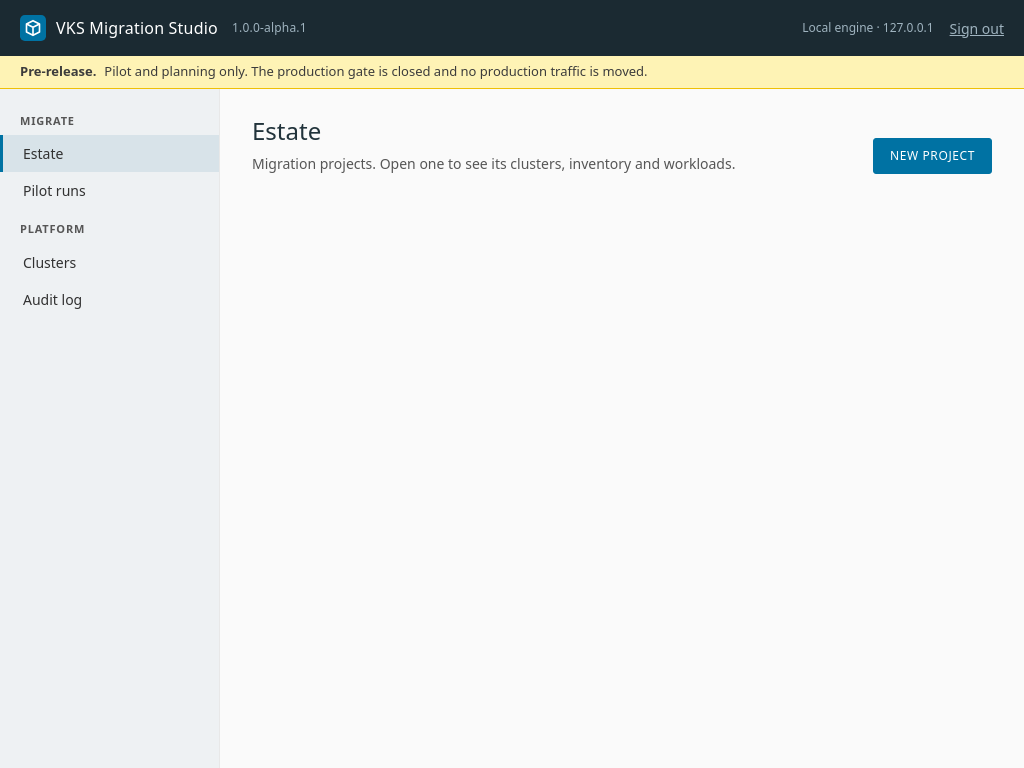
Test: estate › shows the engine error message when creation fails
The width and height of the screenshot is (1024, 768).
Click the button "New project" at (932, 156), box [873, 138, 992, 174]
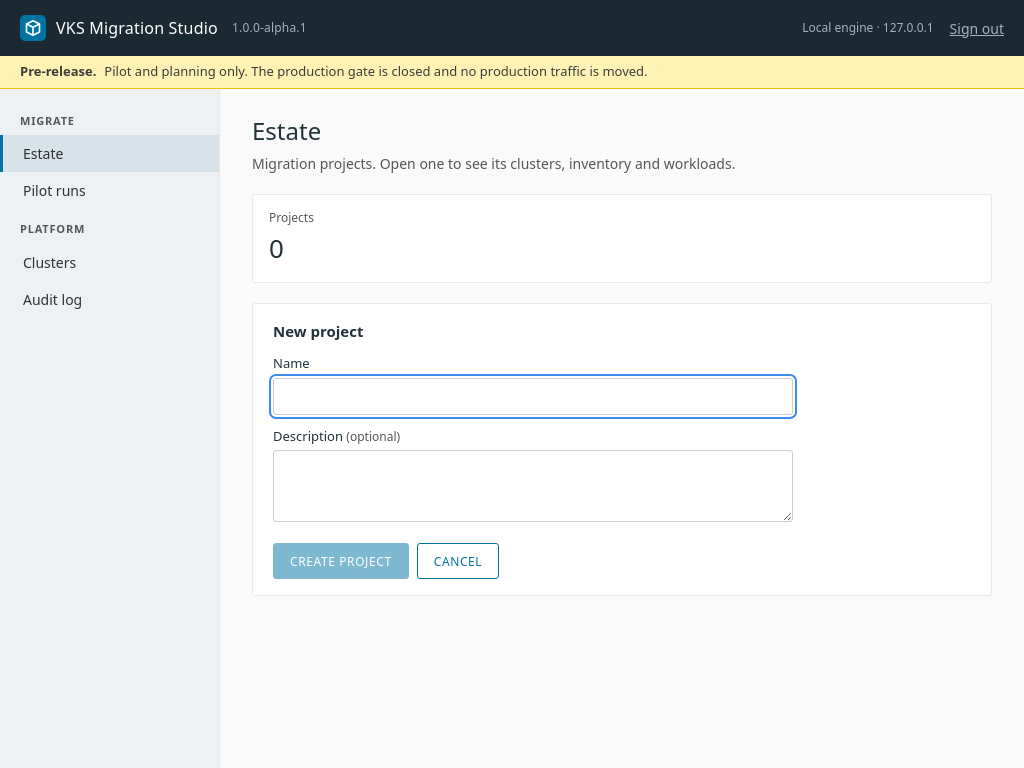
Type "x" into the field labelled "Name" at (533, 396), box [273, 378, 793, 414]
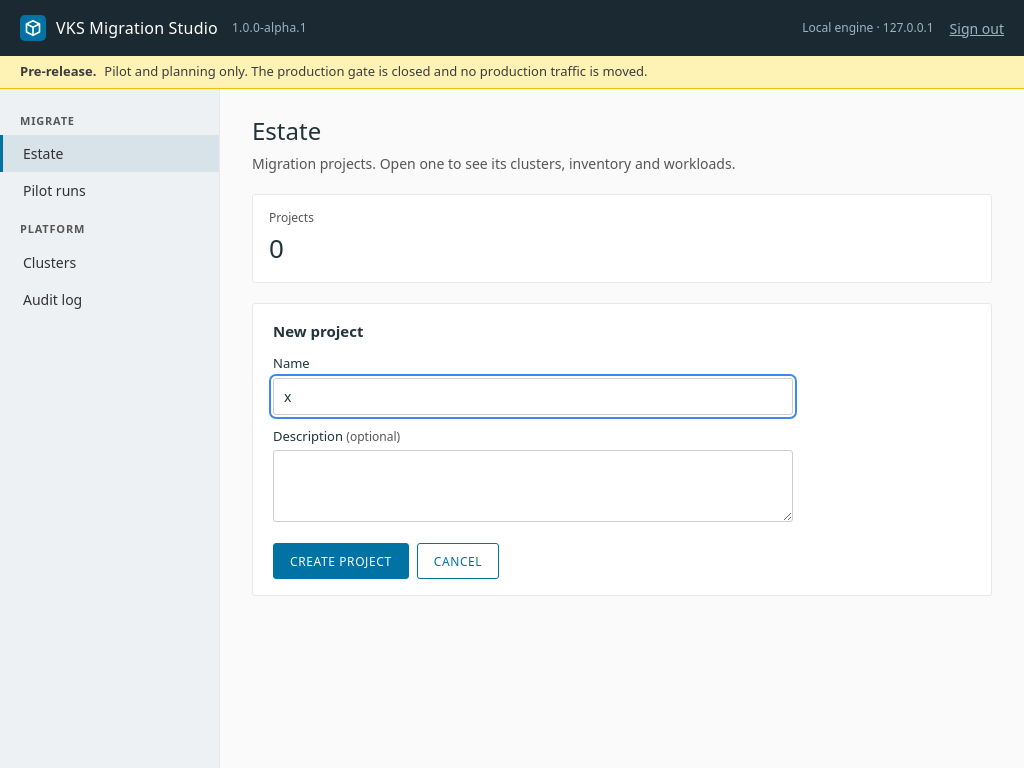
Click the button "Create project" at (341, 561), box [273, 543, 409, 579]
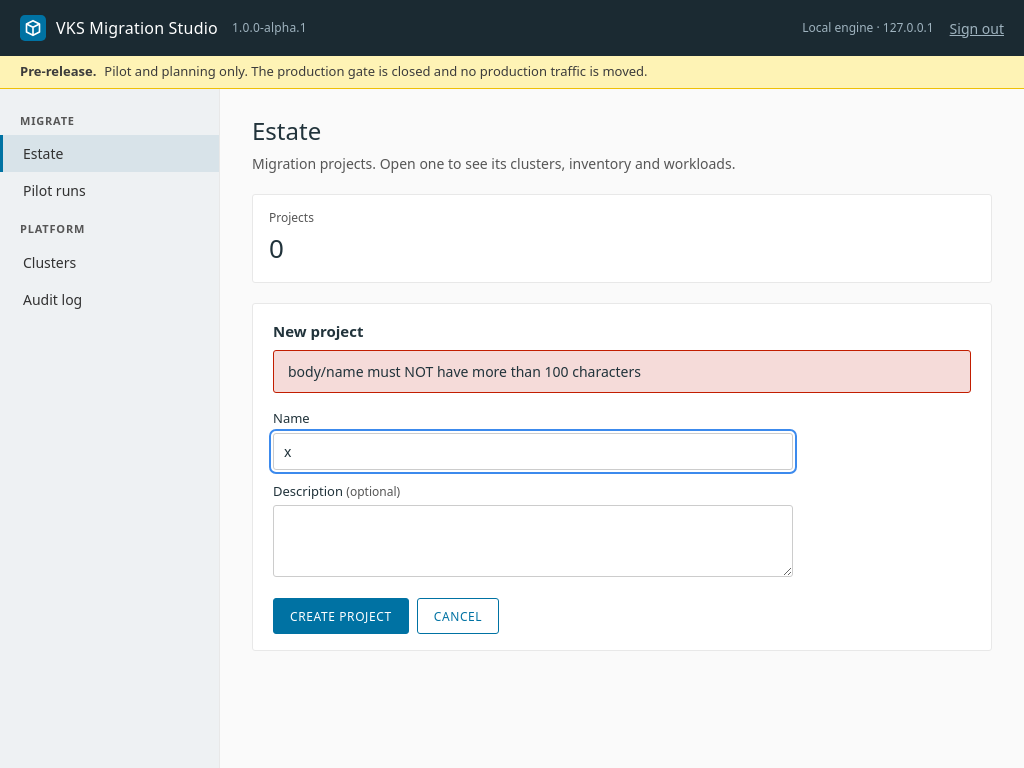
Expected: the message shows "100 characters", [288, 362, 641, 381]
